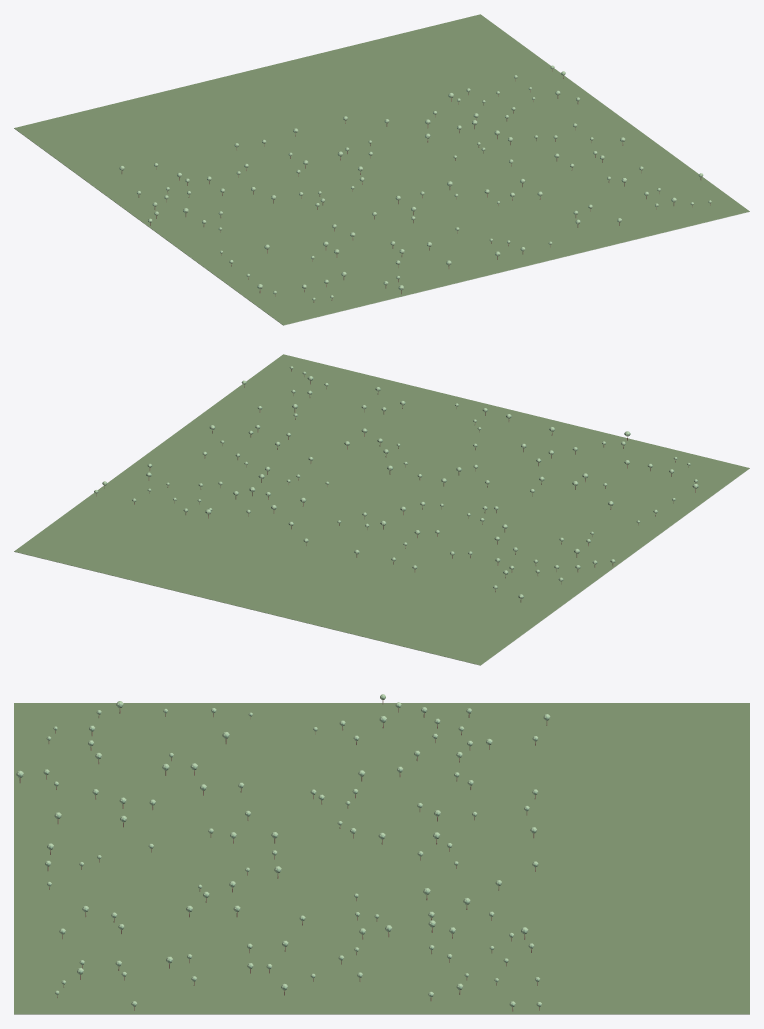
Rendered from chunk_3_0_high.glb.
3 renders of one model, top to bottom at view 1: azimuth 30°, elevation 25°; view 2: azimuth 150°, elevation 25°; view 3: azimuth 270°, elevation 25°, orthographic. The views are drawn at different scales.
Visible parts, largest first — view 1: city_forest_floor, city_foliage, city_foliage_dark, city_grass, city_bark; view 2: city_forest_floor, city_foliage, city_foliage_dark, city_grass, city_bark; view 3: city_forest_floor, city_foliage, city_foliage_dark, city_bark, city_grass.
Boxes of the visible parts, box(x1,y1,x2,y2) form: city_forest_floor: box(14, 14, 749, 325); city_foliage: box(119, 65, 711, 300); city_foliage_dark: box(119, 66, 709, 299); city_grass: box(14, 128, 749, 325); city_bark: box(121, 69, 710, 302); city_forest_floor: box(14, 354, 749, 665); city_foliage: box(94, 366, 697, 598); city_foliage_dark: box(94, 367, 698, 597); city_grass: box(14, 468, 749, 665); city_bark: box(96, 369, 696, 602); city_forest_floor: box(14, 703, 749, 1014); city_foliage: box(16, 694, 550, 1006); city_foliage_dark: box(18, 696, 549, 1006); city_bark: box(19, 700, 547, 1011); city_grass: box(14, 1014, 749, 1014).
Bounding box in the file's own units: 512 × 9.79 × 512.
